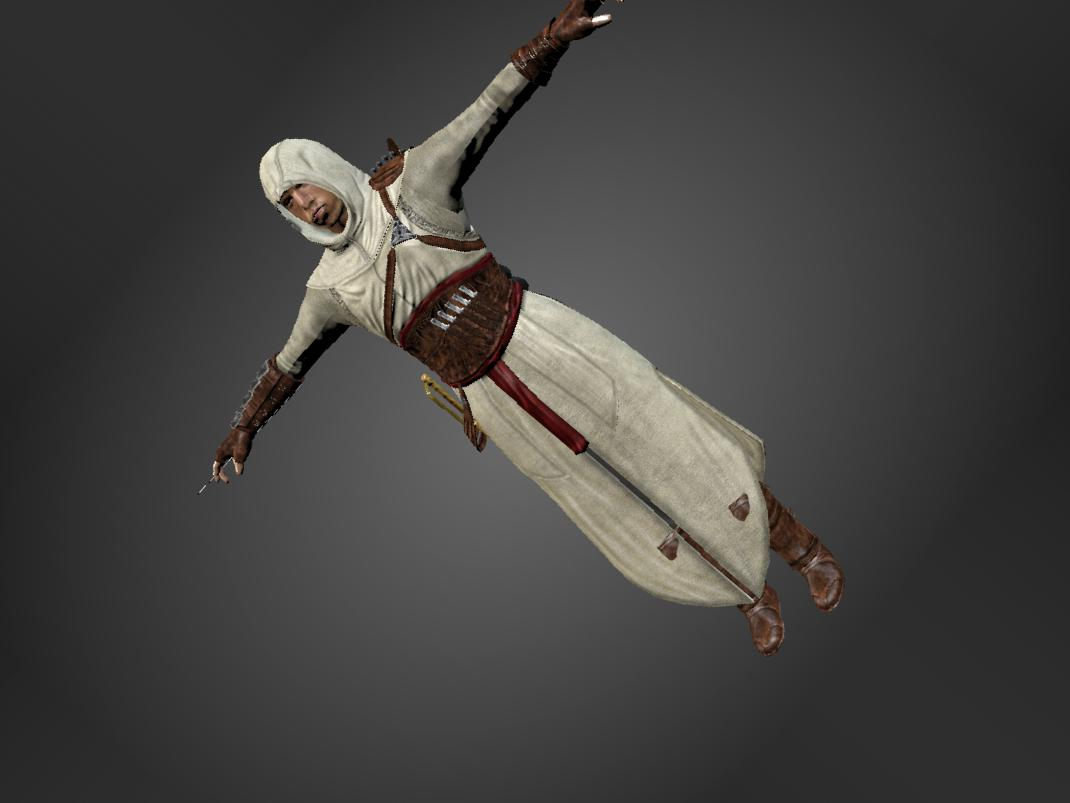clip: (721, 487, 759, 529), (655, 525, 690, 562)
